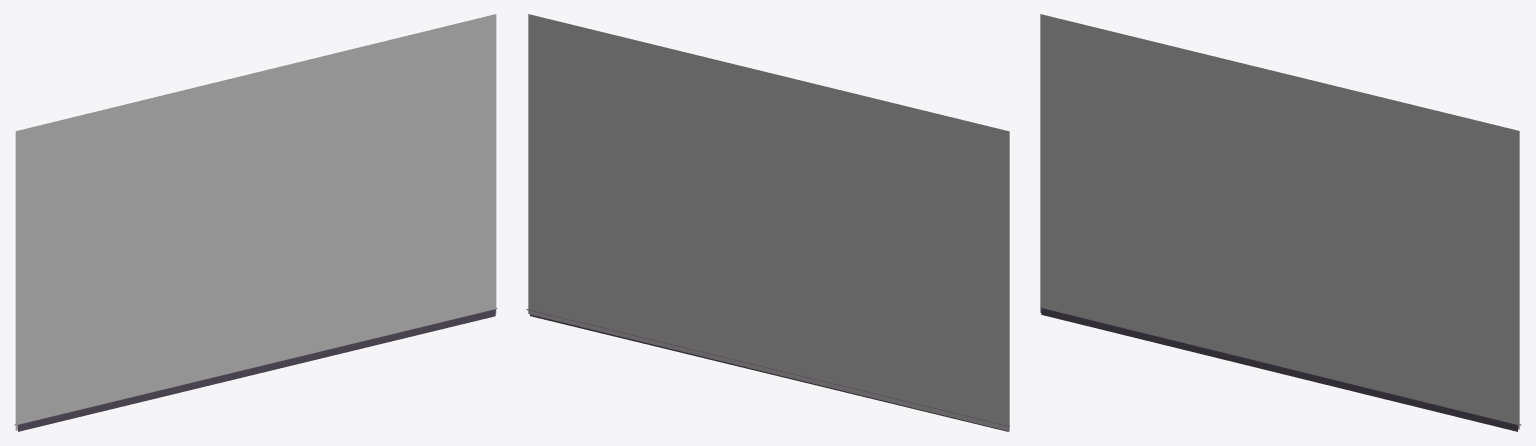
File: StoneWall001.FBX
3 renders of one model, left to right at view 1: azimuth 30°, elevation 25°; view 2: azimuth 150°, elevation 25°; view 3: azimuth 330°, elevation 25°, orthographic.
Visible parts, largest first — view 1: StoneWall001; view 2: StoneWall001; view 3: StoneWall001.
Boxes of the visible parts, x1,y1,x2,y2 form: StoneWall001: [14, 14, 497, 431]; StoneWall001: [526, 14, 1009, 431]; StoneWall001: [1040, 14, 1521, 431].
Bounding box in the file's own units: 22.83 × 13.62 × 0.1258.
